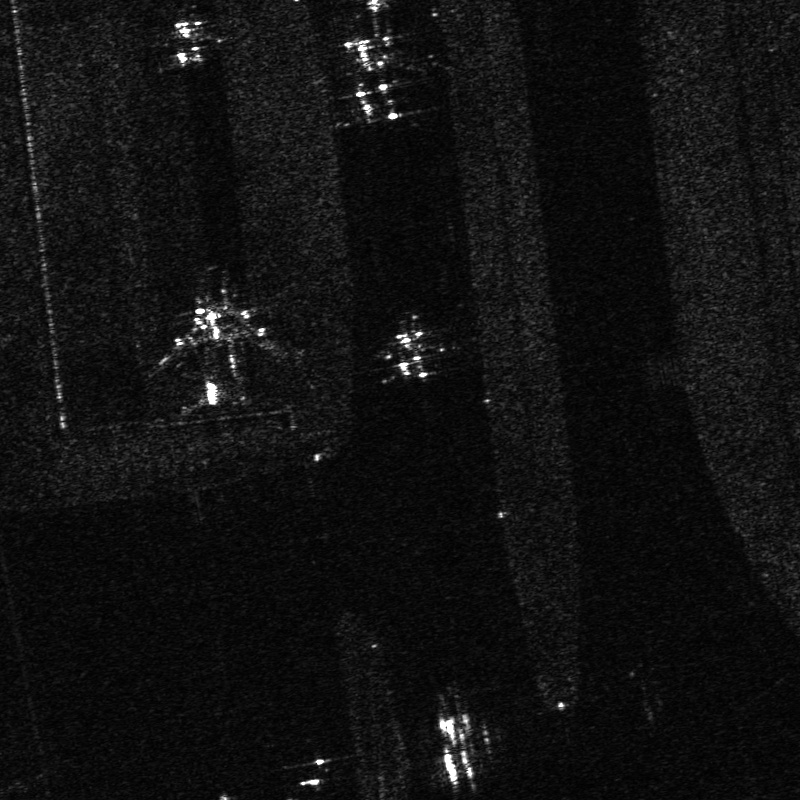A220: (148, 9, 227, 74)
A330: (360, 307, 465, 392)
other: (147, 284, 289, 414)
